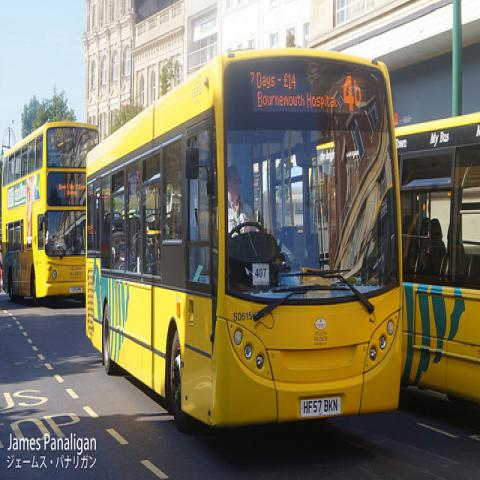bus: (85, 45, 401, 429), (395, 111, 479, 406), (1, 120, 100, 306)
